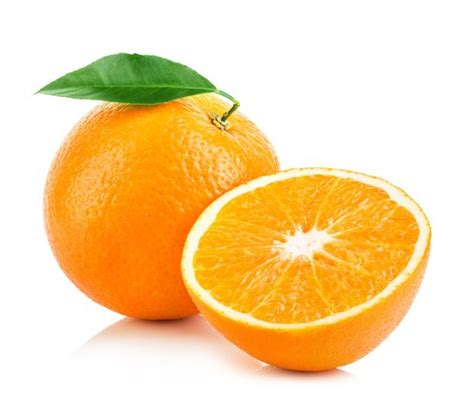orange: (40, 81, 286, 325)
